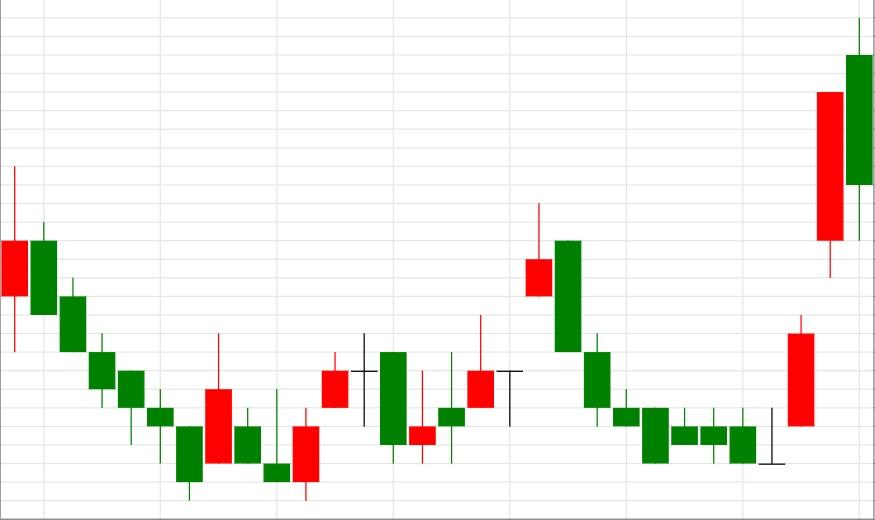inverse_hammer_rise: (0, 165, 291, 501)
three_black_crows_fall: (408, 202, 641, 463)
